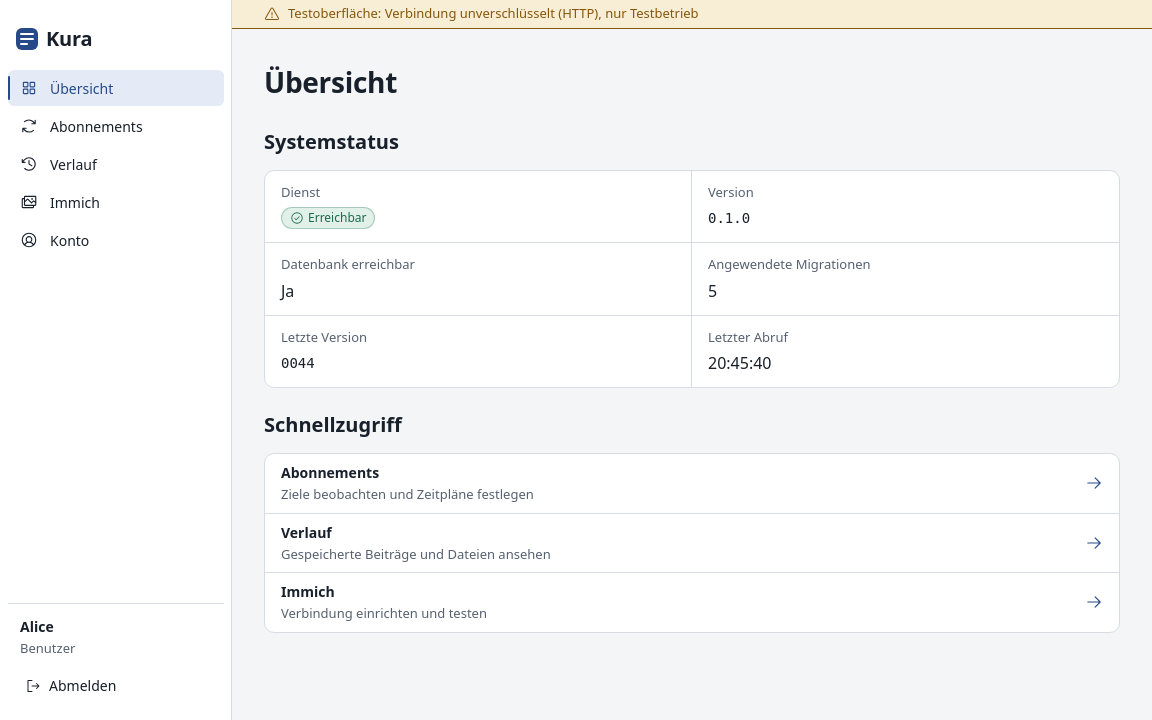
Test: pauses and resumes a subscription
Expected: the text "Erreichbar" is shown, [281,207,376,229]
Click the button "Abonnements" at (116, 126), box [8,108,224,144]
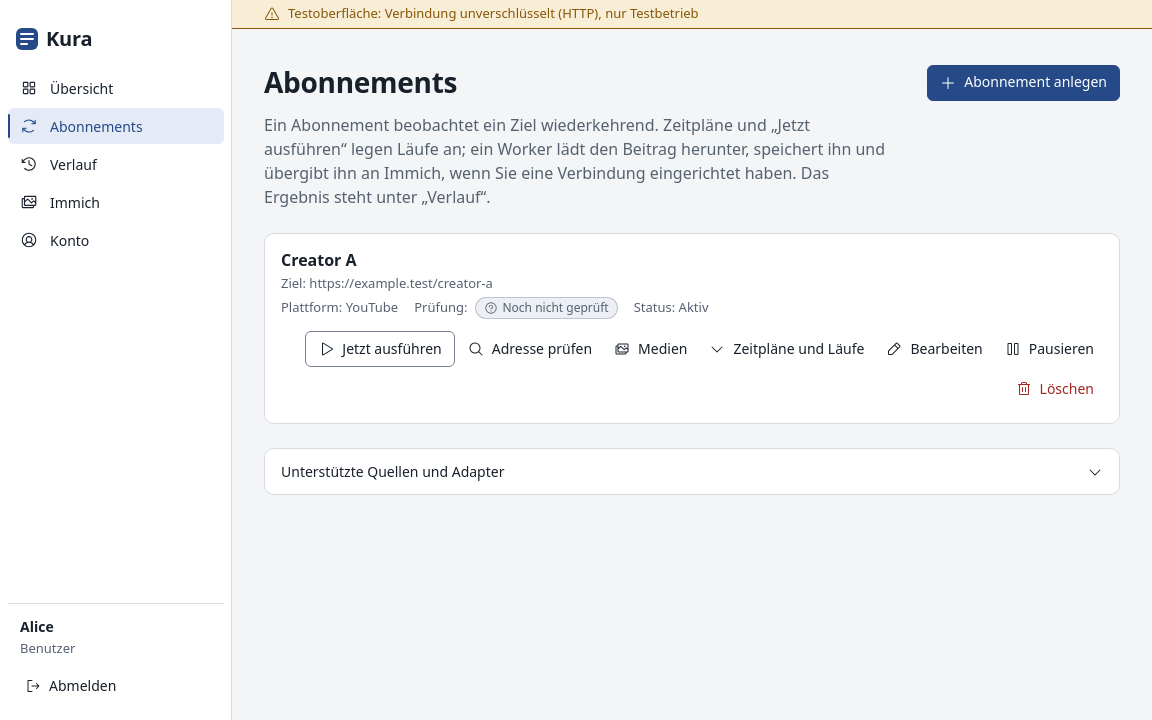
Now the heading "Abonnements" is shown, box [264,65,457,100]
Click the button "Pausieren" at (1049, 349), box [996,331,1103,367]
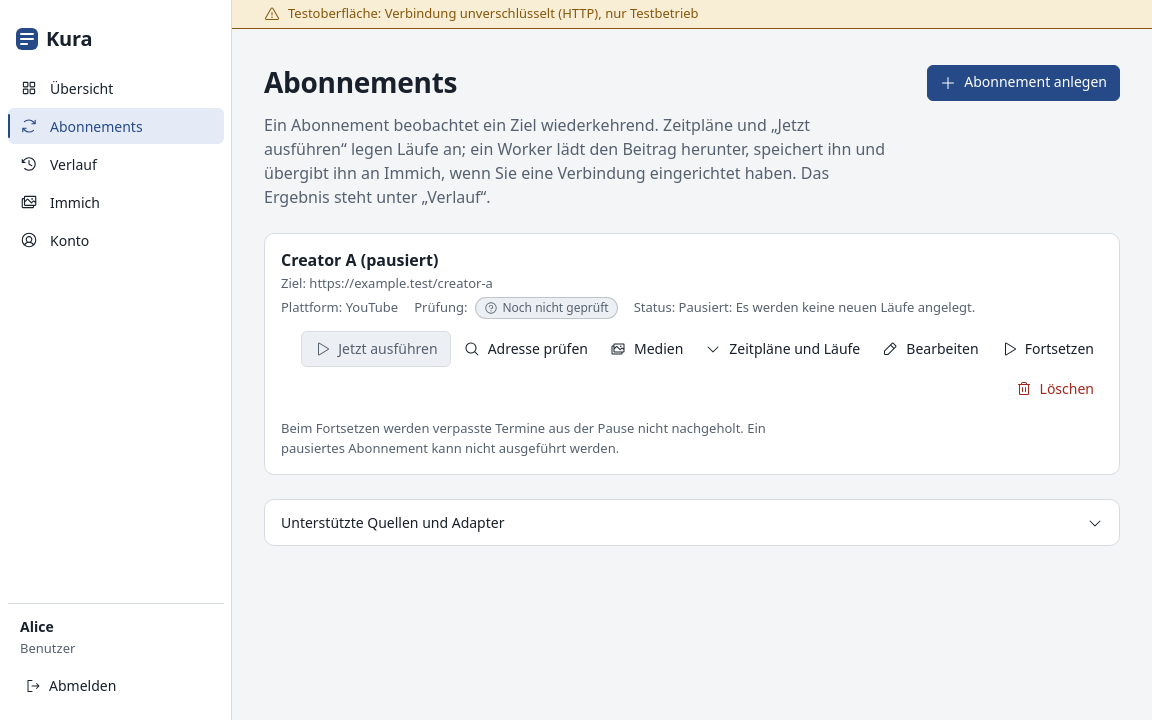
Now the text "Status: Pausiert: Es werden keine neuen Läufe angelegt." is shown, box [634,298,975,318]
Now the heading "Creator A (pausiert)" is shown, box [281,248,438,270]
Click the button "Fortsetzen" at (1047, 349), box [992,331,1103,367]
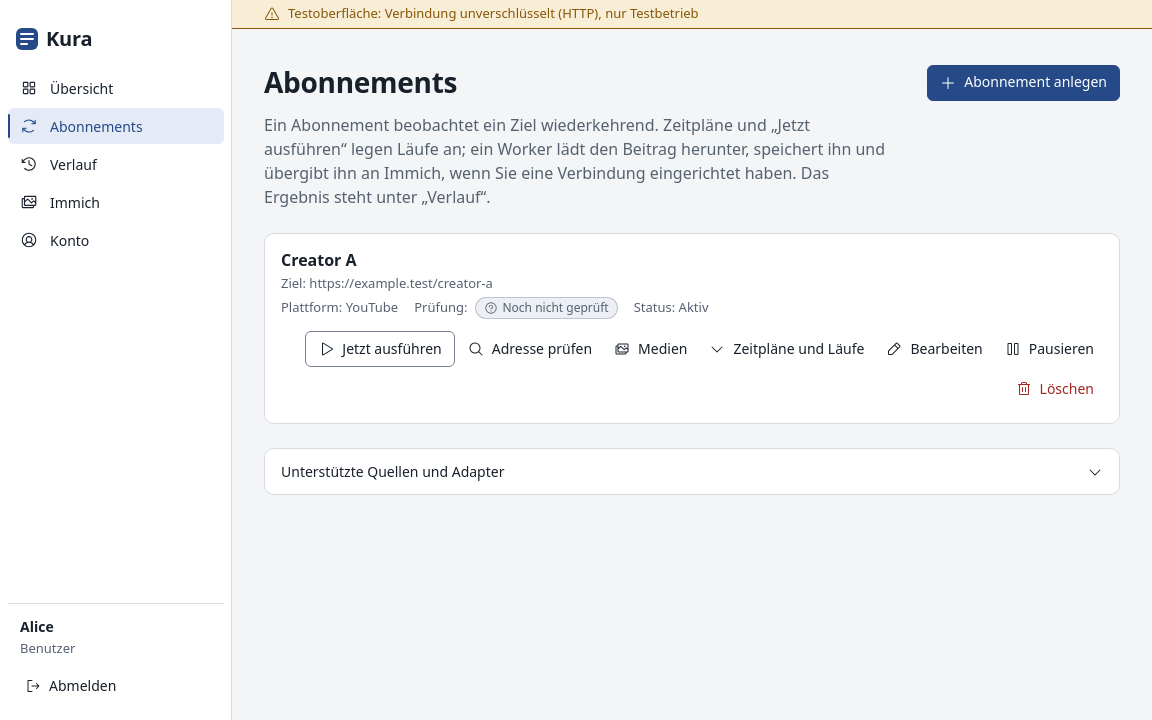
Now the text "Status: Aktiv" is shown, box [634,298,709,318]
